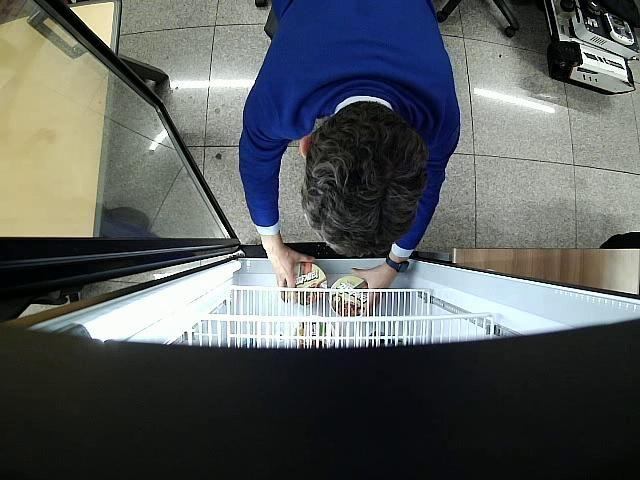03_chapagetti_L: (285, 262, 328, 306), (328, 276, 368, 316)
